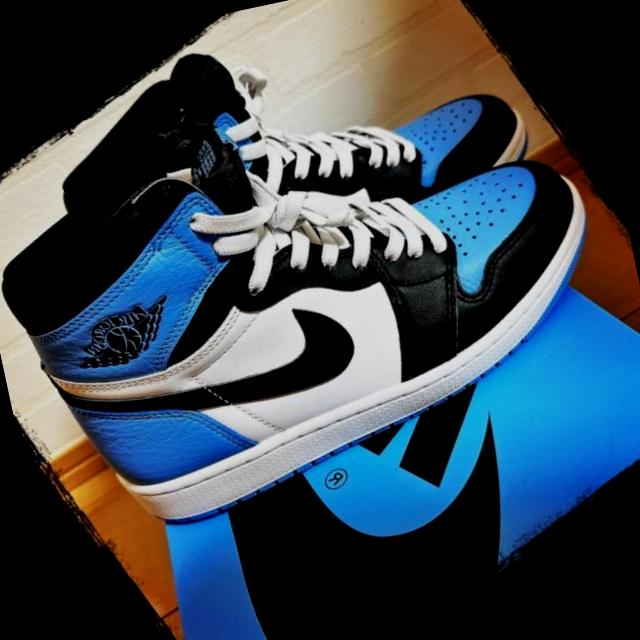nike_original_jordan: (0, 0, 640, 610), (0, 0, 577, 426)
